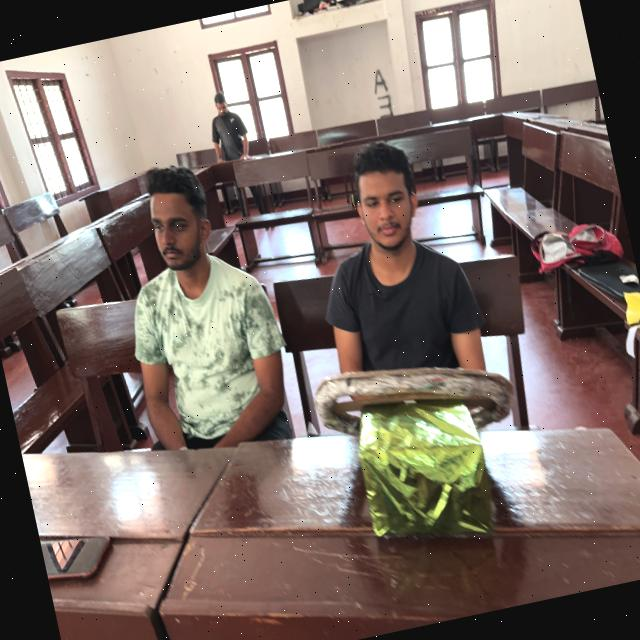Helmet: (111, 247, 313, 488), (308, 222, 508, 453)
